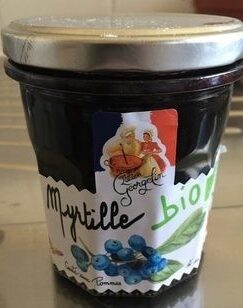Myrtille bio: (12, 15, 231, 293)
